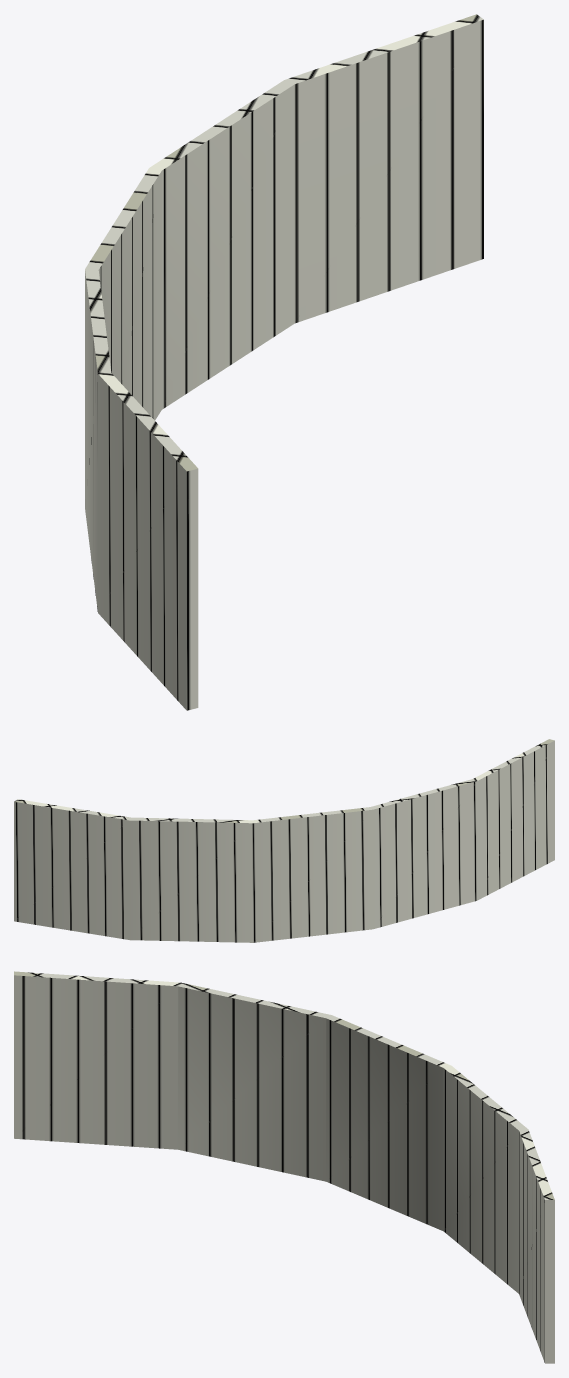
File: TileWallOuterCurved.fbx
3 renders of one model, top to bottom at view 1: azimuth 30°, elevation 25°; view 2: azimuth 150°, elevation 25°; view 3: azimuth 270°, elevation 25°, orthographic. The views are drawn at different scales.
Parts seen in each view (by area): view 1: TileWallCurvedOuter; view 2: TileWallCurvedOuter; view 3: TileWallCurvedOuter.
Part boxes in pixels (bbox=[...]): TileWallCurvedOuter: bbox=[85, 14, 483, 710]; TileWallCurvedOuter: bbox=[14, 739, 554, 942]; TileWallCurvedOuter: bbox=[14, 971, 554, 1363].
Size of the model in its own units: 3000 by 1000 by 3000.
